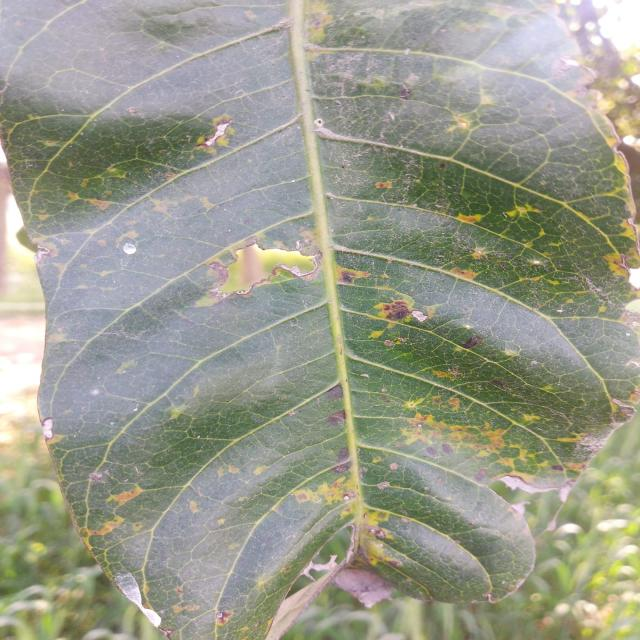Anthracnose: (203, 115, 241, 149), (379, 297, 414, 326), (114, 484, 137, 506), (455, 213, 483, 227), (378, 176, 392, 188)
Bacterial Cancer: (337, 529, 401, 605)
Powdery Mildew: (128, 576, 169, 619), (122, 239, 144, 259), (41, 417, 58, 440)
